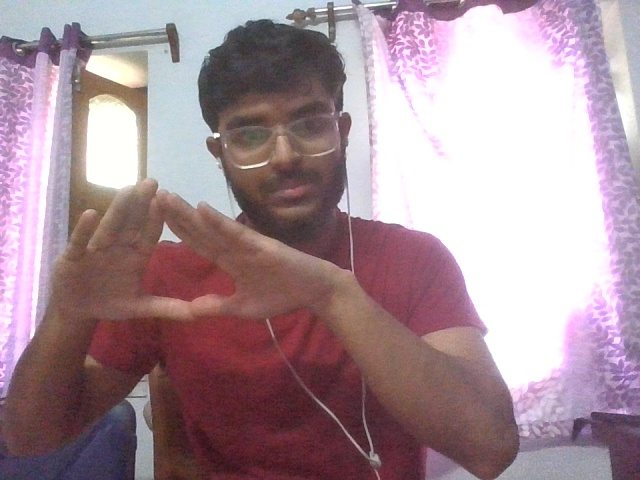ThankYou: (49, 179, 337, 319)
